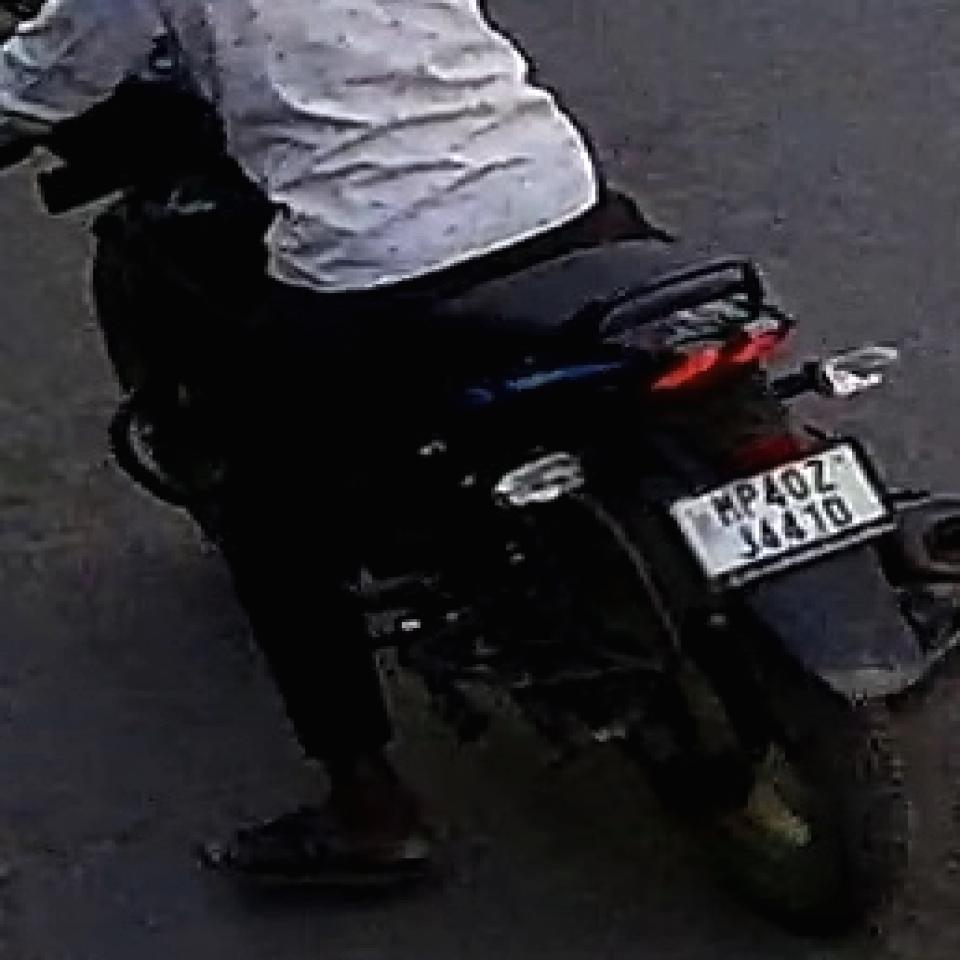tail_light: (637, 314, 797, 404)
